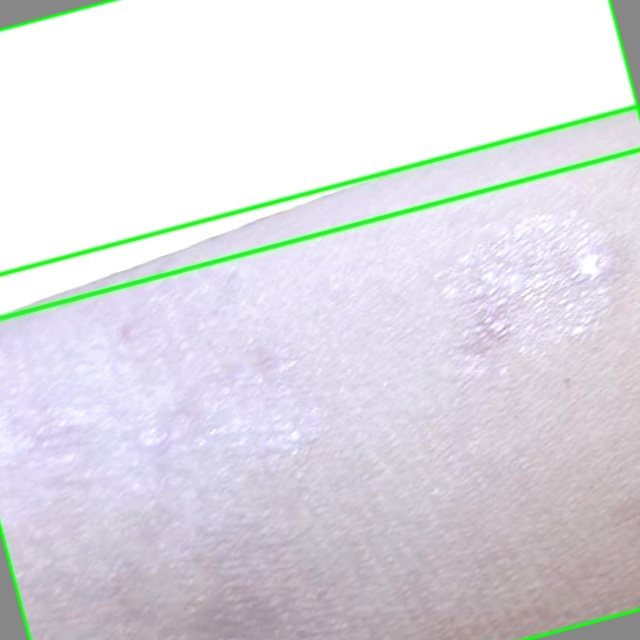Tinea Corporis: (0, 106, 639, 639), (0, 0, 639, 319)
